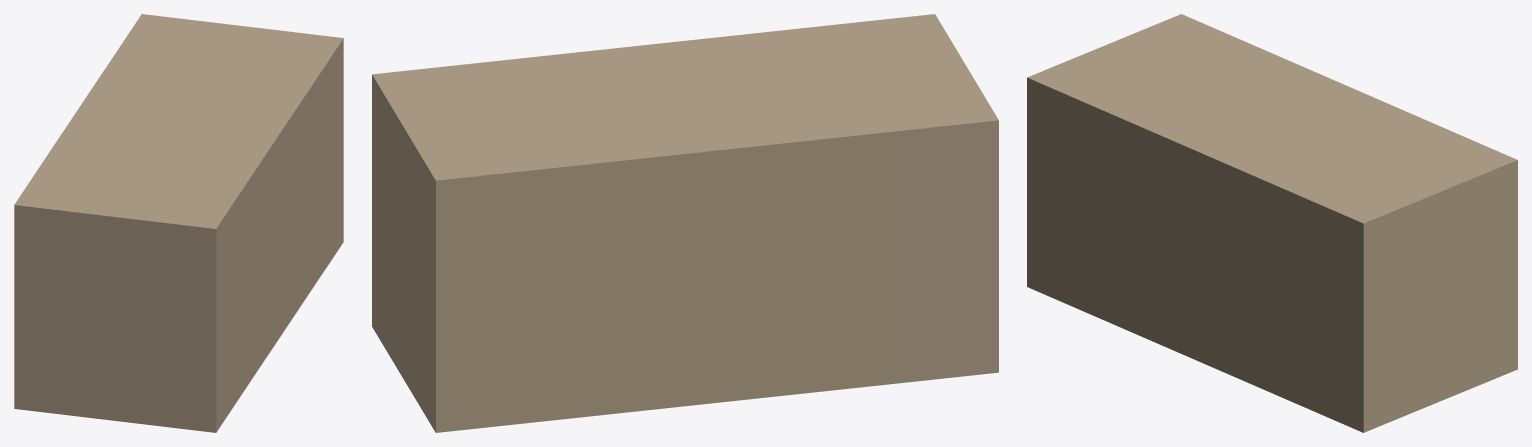
The model's file is bld_106306646.dae.
3 renders of one model, left to right at view 1: azimuth 30°, elevation 25°; view 2: azimuth 150°, elevation 25°; view 3: azimuth 270°, elevation 25°, orthographic. The views are drawn at different scales.
Parts seen in each view (by area): view 1: bld_106306646; view 2: bld_106306646; view 3: bld_106306646.
Part boxes in pixels (<box>): bld_106306646: <box>14,14,343,432</box>; bld_106306646: <box>372,14,998,432</box>; bld_106306646: <box>1027,14,1517,432</box>.
Bounding box in the file's own units: 17.17 × 16.99 × 8.
